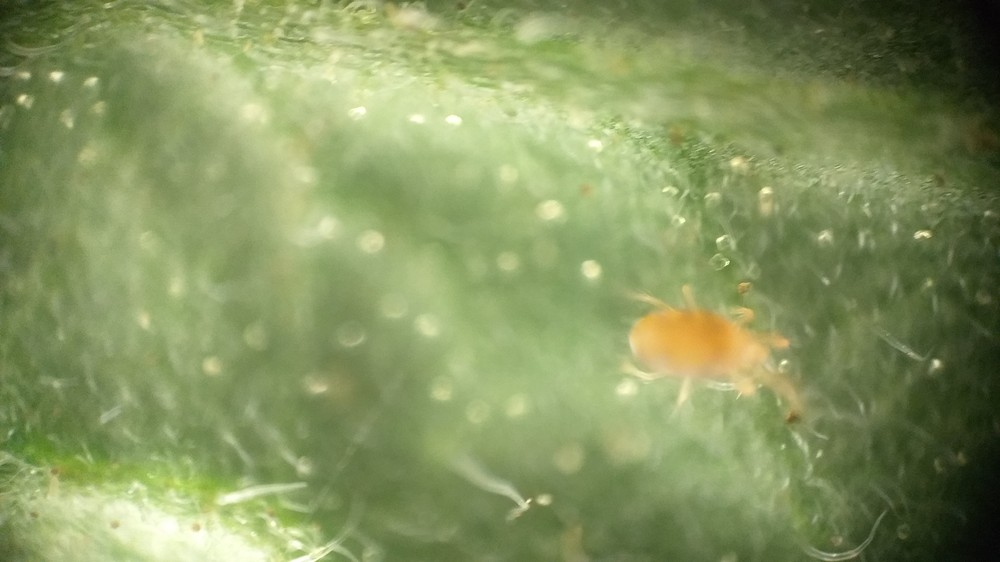Aracnido Rojo: (575, 267, 830, 444)
